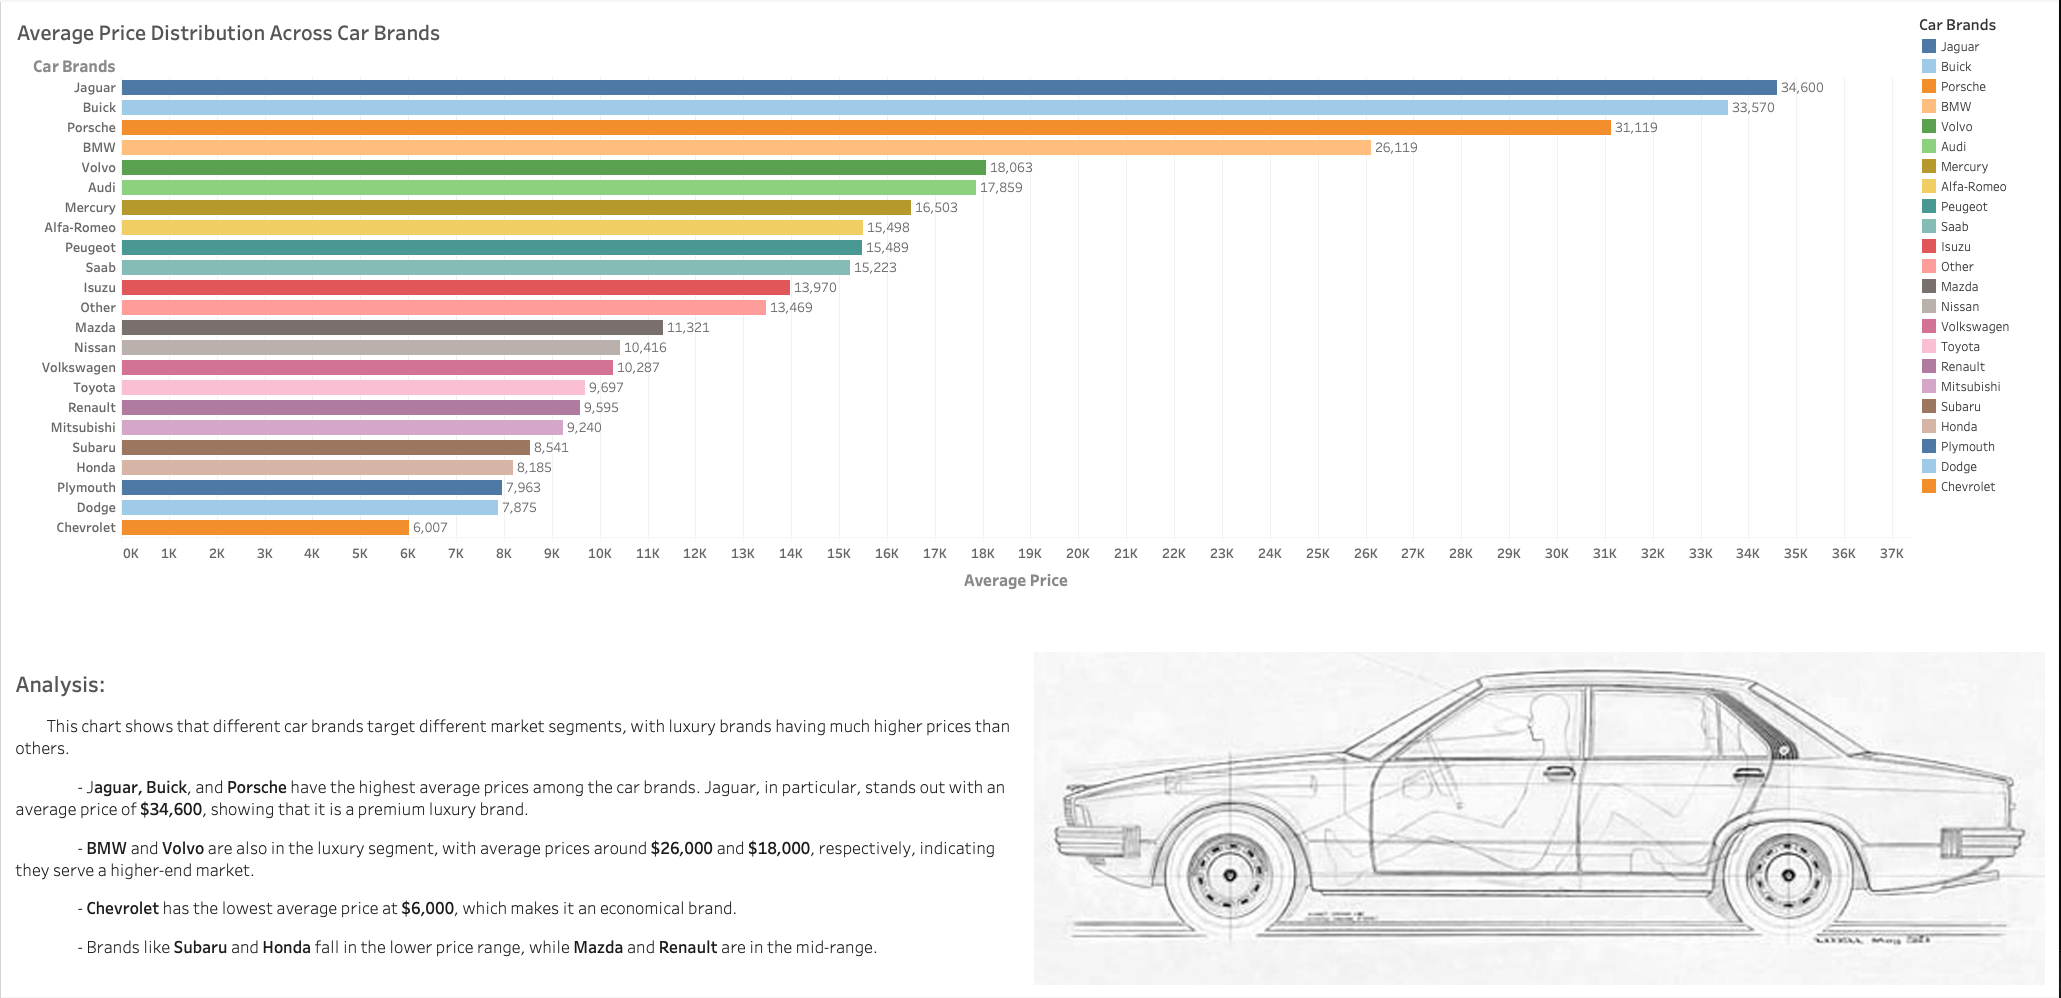

The dashboard page shown, as its layout file describes it:
{"tool":"tableau","page":{"name":"Avg. Price Vs. Brand","canvas":[1000,1000],"units":"permille","ordinal":0},"visuals":[{"type":"worksheet","title":"Price","mark":"Automatic","rows":["Calculation_3935864667154509827"],"cols":["price"],"box":[3.9,8,926.6,641.2]},{"type":"legend","title":"Price","param":"[federated.0e729hn1fybl4716i38pu0krnbpw].[none:Calculation_3935864667154509827:n","box":[930.5,8,65.6,641.2]},{"type":"text","box":[3.9,649.2,495.9,342.7]},{"type":"image","param":"/Users/sanemini/Downloads/BertoneXJ40-2.jpg","box":[499.8,649.2,496.4,342.7]}]}

Visuals, with their boxes on the dashboard's canvas, which has no fixed pixel size, in thousandths of its width and height (x1, y1, x2, y2). These are canvas units, not pixel positions in the 2061x998 screenshot, which may show the page scaled, cropped or inside an application window:
"Price" worksheet: x1=4 y1=8 x2=930 y2=649
"Price" legend: x1=930 y1=8 x2=996 y2=649
text: x1=4 y1=649 x2=500 y2=992
image: x1=500 y1=649 x2=996 y2=992
